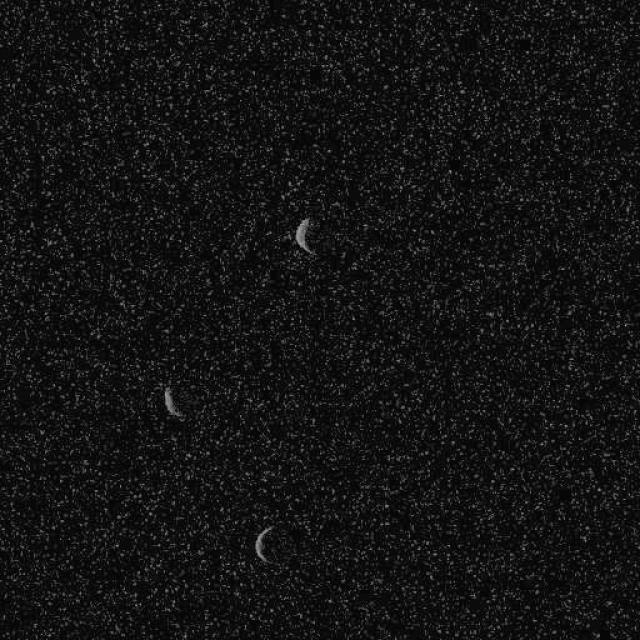D2: (292, 216, 316, 256), (252, 524, 276, 564), (161, 385, 185, 420)
